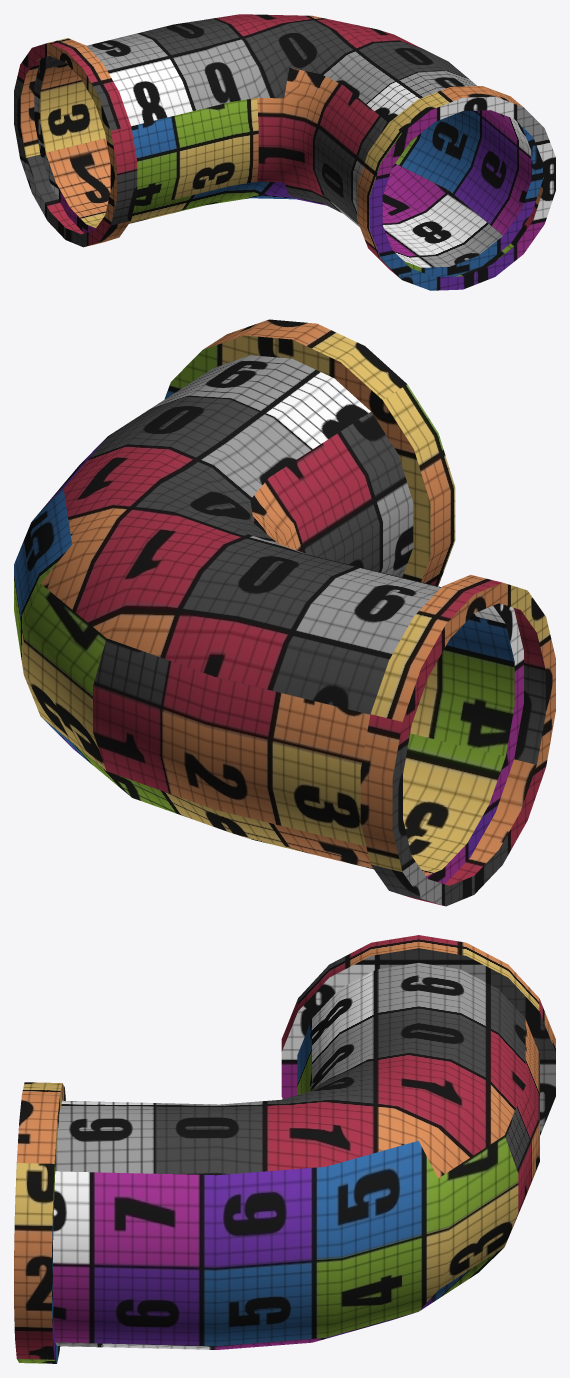
The model's file is Tuyaux2.fbx.
3 views of the same model, one above another, from view 1: azimuth 30°, elevation 25°; view 2: azimuth 150°, elevation 25°; view 3: azimuth 270°, elevation 25° (orthographic). The views are drawn at different scales.
Visible parts, largest first — view 1: Tuyaux2; view 2: Tuyaux2; view 3: Tuyaux2.
Part boxes in pixels (x1=…): Tuyaux2: x1=14, y1=14, x2=555, y2=290; Tuyaux2: x1=14, y1=319, x2=555, y2=906; Tuyaux2: x1=14, y1=935, x2=555, y2=1363.
Bounding box in the file's own units: 43.62 × 23.54 × 45.25.
1 material, 1 textured.
